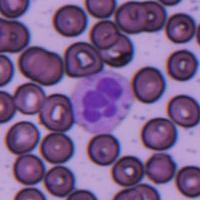N: (71, 71, 134, 136)
